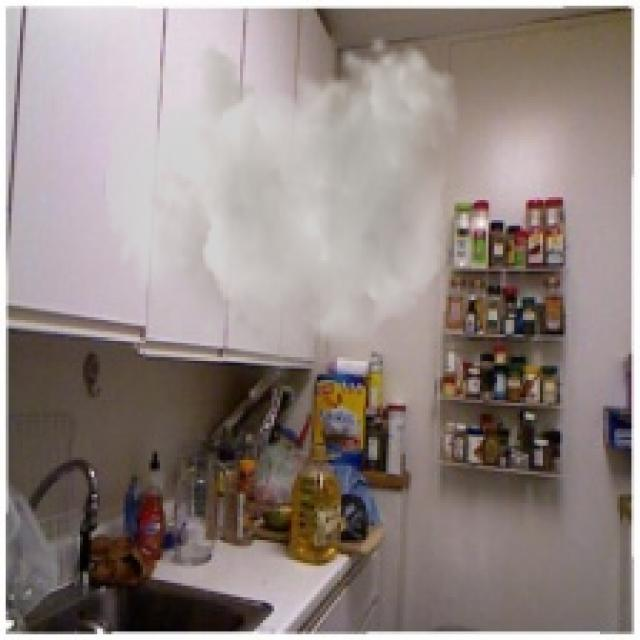smoke: (103, 31, 460, 392)
